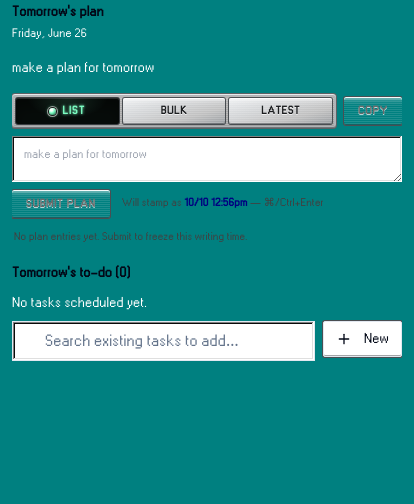
Test: DayReviewTomorrowSection › creates a new task scheduled for tomorrow
This screenshot has width=414, height=504.
Click the button with test id "tomorrow-new-task-toggle".
click(362, 339)  # box [323,321,402,357]
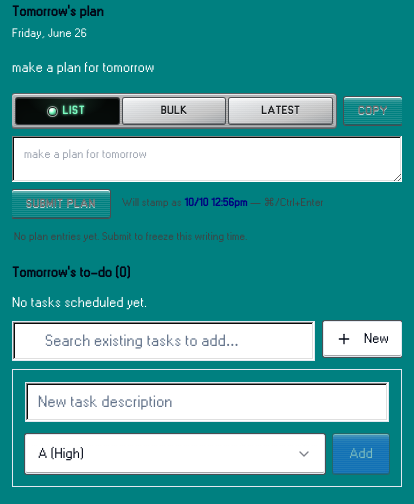
Type "Write tests" into the field with test id "tomorrow-new-task-description".
click(207, 402); type("Write tests")  # box [25,382,389,422]
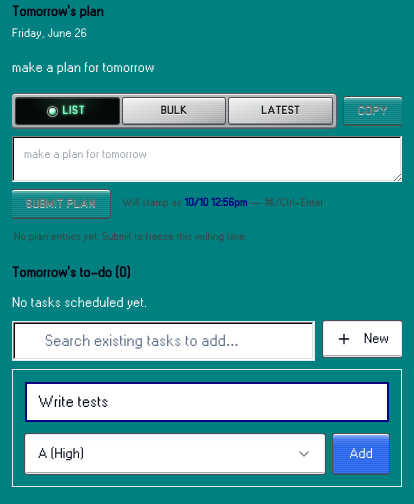
Click the button "Add".
click(361, 454)  # box [333,434,389,474]
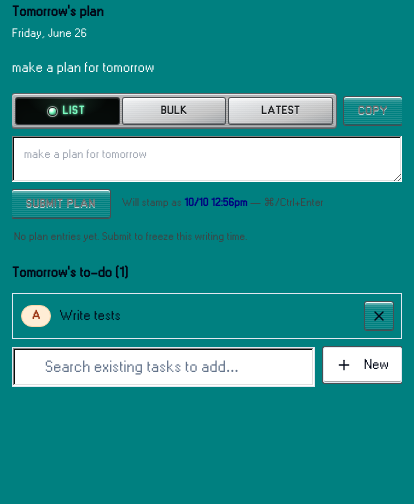
Check: the text "Write tests" is shown, box [59,309,121,322]
